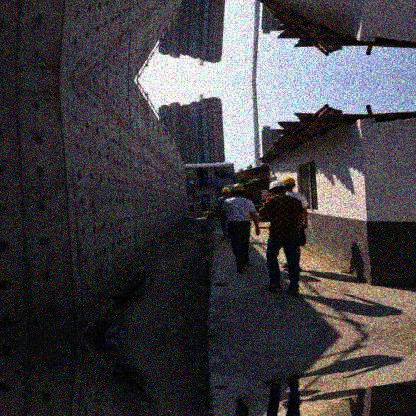helmet: (268, 179, 286, 195), (230, 183, 246, 198), (284, 178, 296, 192), (220, 185, 231, 197)
